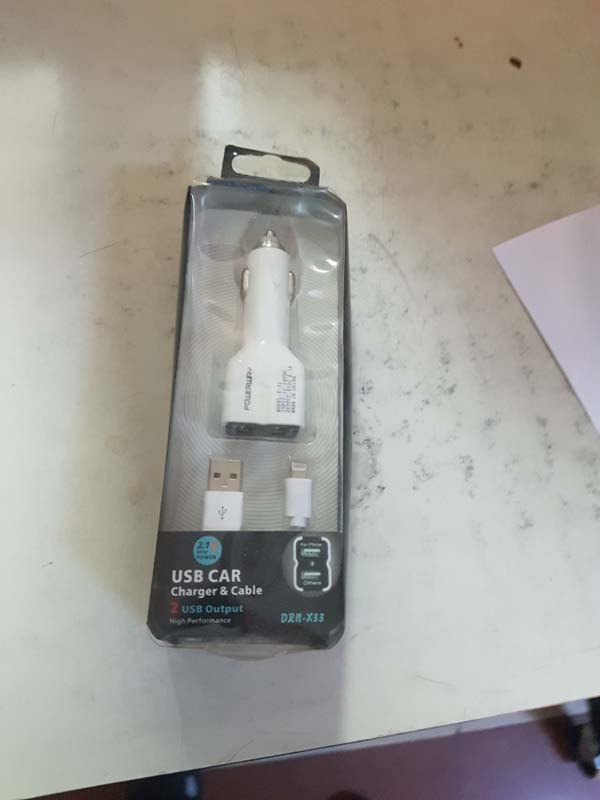usbcarcharger: (147, 137, 361, 665)
